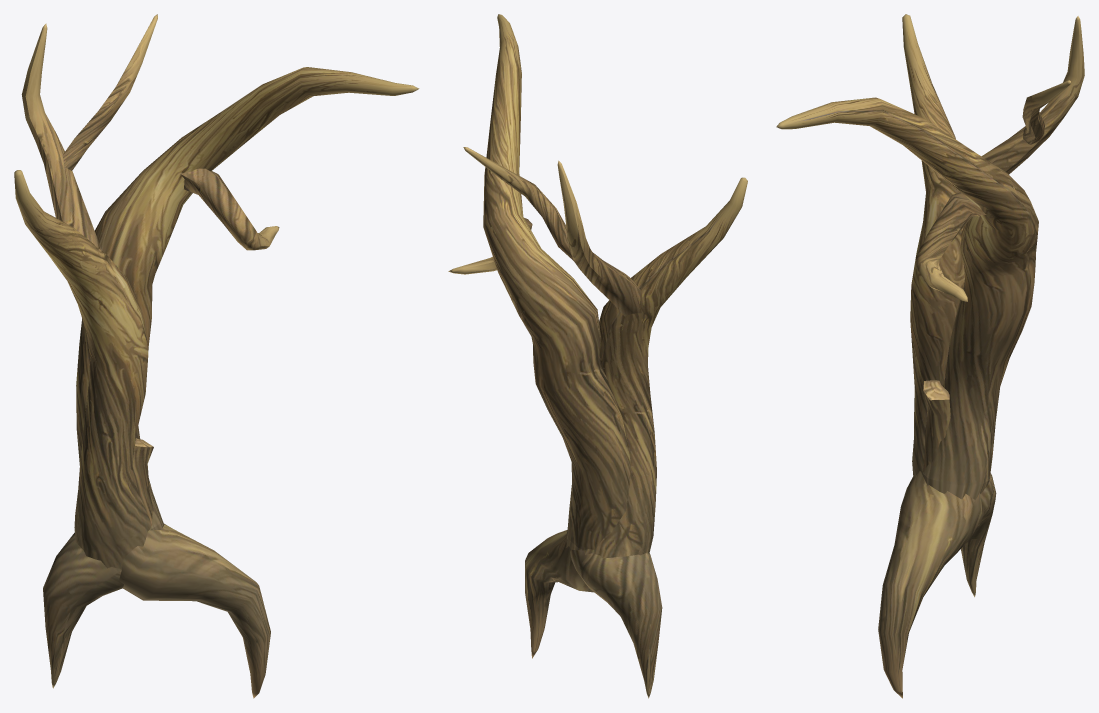
Rendered from DE_Tree_02.fbx.
The picture shows the model from 3 angles, left to right: view 1: azimuth 30°, elevation 25°; view 2: azimuth 150°, elevation 25°; view 3: azimuth 270°, elevation 25°; orthographic projection. The views are drawn at different scales.
Visible parts, largest first — view 1: DE_Tree_02; view 2: DE_Tree_02; view 3: DE_Tree_02.
Boxes of the visible parts, x1,y1,x2,y2 form: DE_Tree_02: (14,14,419,698); DE_Tree_02: (448,14,747,698); DE_Tree_02: (776,14,1084,698).
Size of the model in its own units: 4.98 by 8.98 by 4.01.
